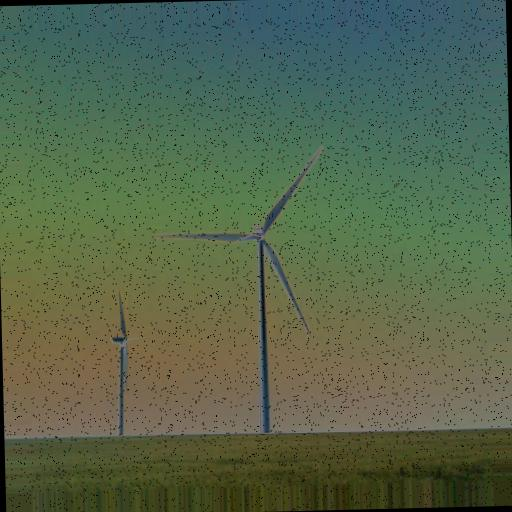wind turbine: (153, 144, 325, 433), (110, 291, 147, 437)
